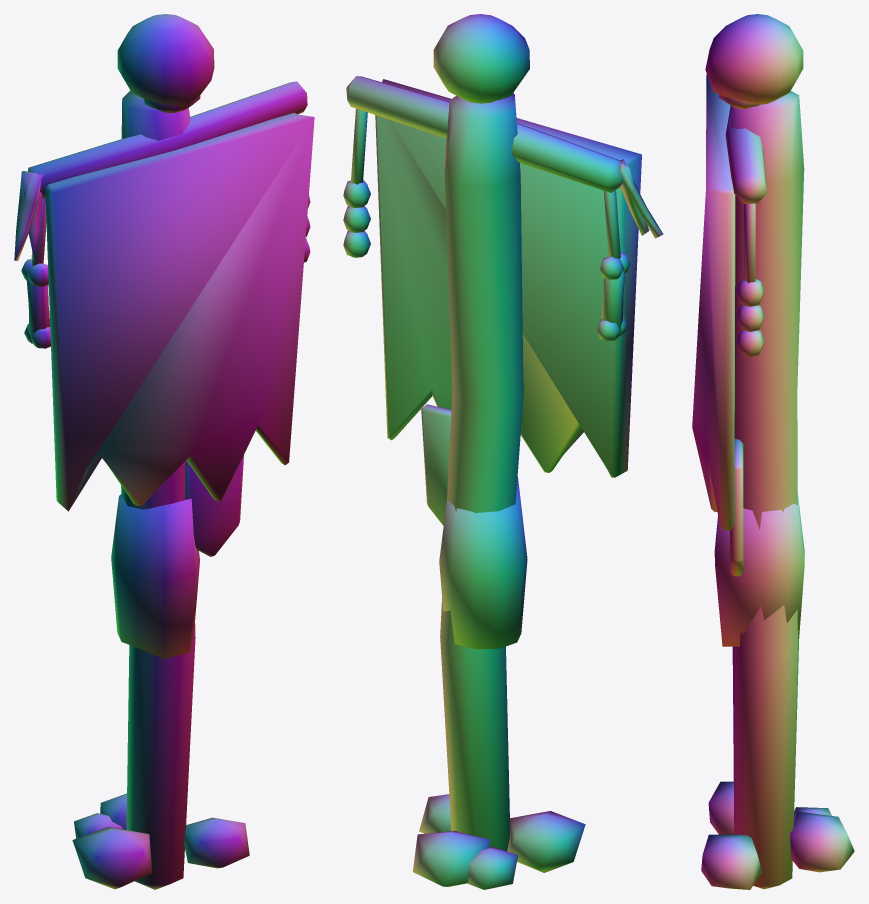
The model's file is SM_Prop_Story_GoblinTotem.fbx.
The picture shows the model from 3 angles, left to right: view 1: azimuth 30°, elevation 25°; view 2: azimuth 150°, elevation 25°; view 3: azimuth 270°, elevation 25°; orthographic projection.
Parts seen in each view (by area): view 1: SM_Prop_Story_GoblinTotem; view 2: SM_Prop_Story_GoblinTotem; view 3: SM_Prop_Story_GoblinTotem.
Part boxes in pixels (left/top/right/bottom): SM_Prop_Story_GoblinTotem: left=14, top=14, right=314, bottom=889; SM_Prop_Story_GoblinTotem: left=343, top=14, right=663, bottom=889; SM_Prop_Story_GoblinTotem: left=692, top=14, right=854, bottom=889.
Bounding box in the file's own units: 1.03 × 2.79 × 0.4707.
